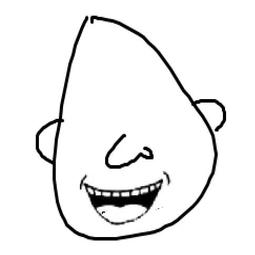ear: (186, 91, 230, 139), (28, 116, 69, 166)
nose: (98, 127, 159, 171)
open_mouth: (80, 176, 167, 229)
